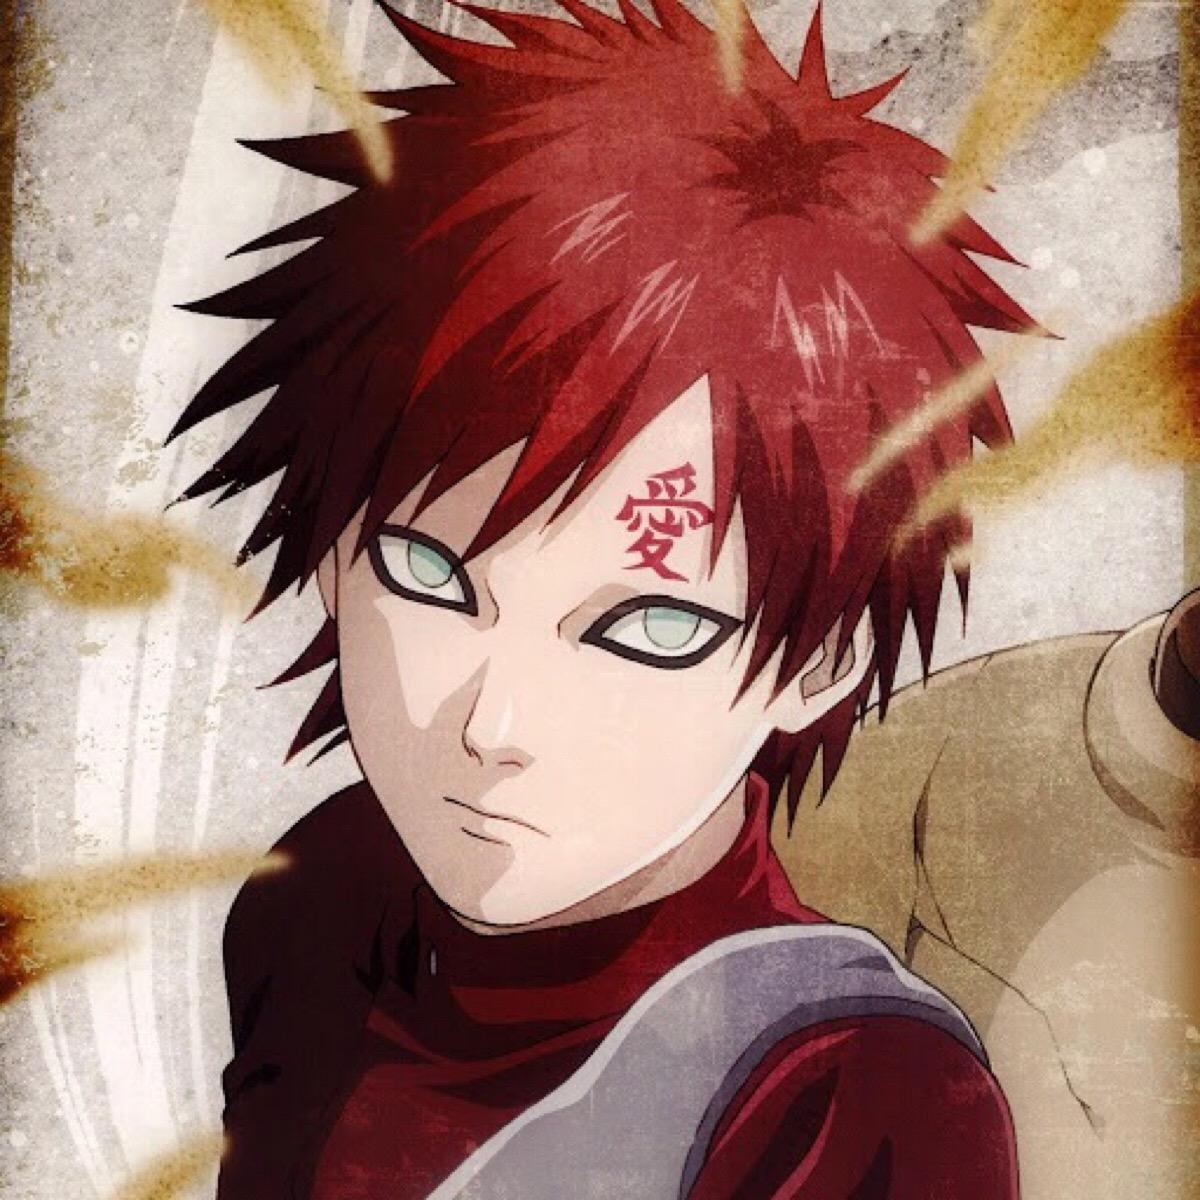gaara: (311, 373, 881, 931)
